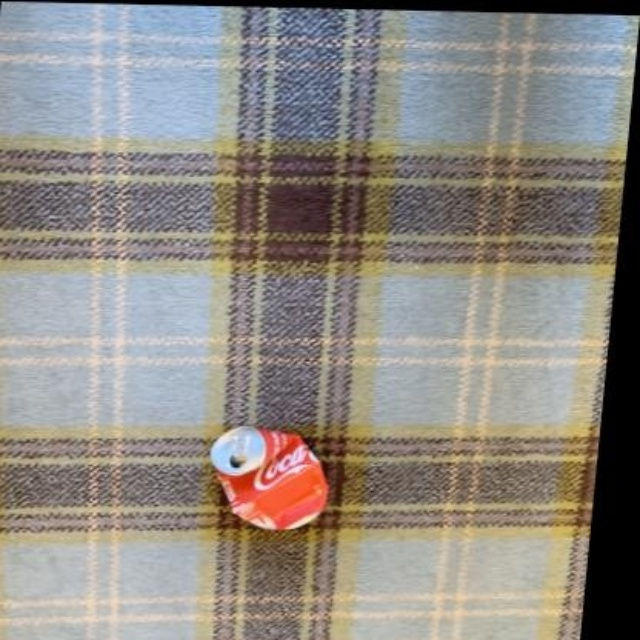trash: (211, 426, 326, 529)
